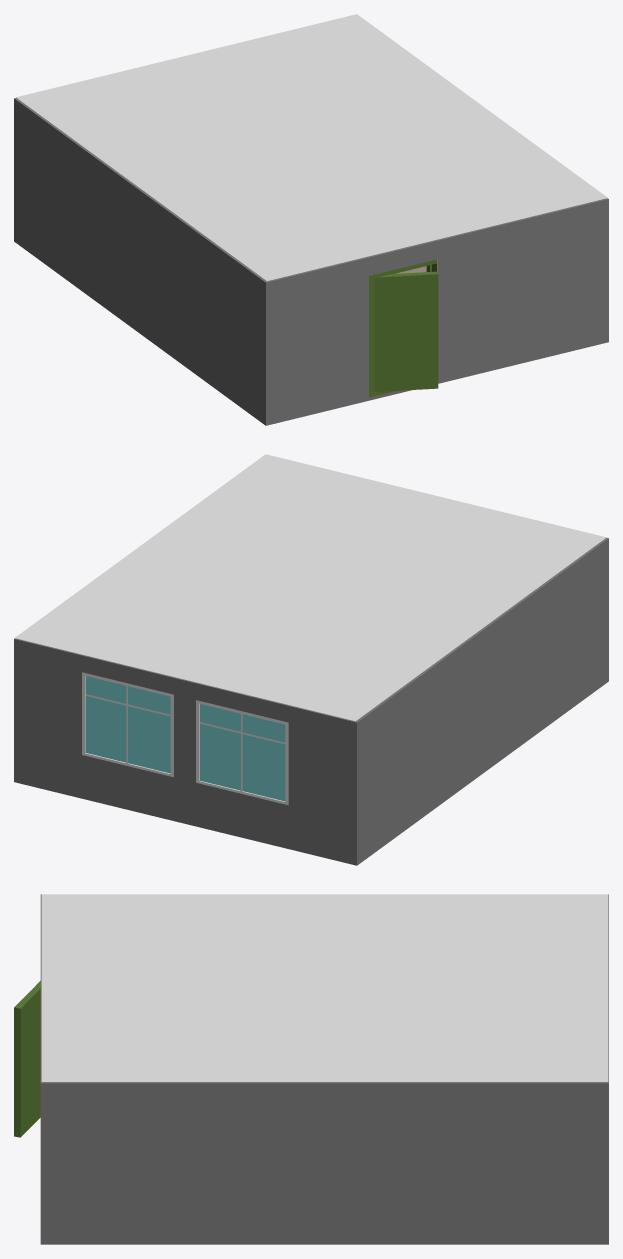
The picture shows the model from 3 angles, top to bottom: view 1: azimuth 30°, elevation 25°; view 2: azimuth 150°, elevation 25°; view 3: azimuth 270°, elevation 25°; orthographic projection. The views are drawn at different scales.
Visible parts, largest first — view 1: room pPlane2, pPlane1 room, room pCube233, room pCube230; view 2: room pPlane2, pPlane1 room, room pCube228, room pCube229; view 3: room pPlane2, pPlane1 room, room pCube233.
Boxes of the visible parts, x1=… form: room pPlane2: x1=16, y1=14, x2=607, y2=280; pPlane1 room: x1=14, y1=97, x2=608, y2=425; room pCube233: x1=374, y1=271, x2=438, y2=391; room pCube230: x1=369, y1=259, x2=436, y2=397; room pPlane2: x1=15, y1=454, x2=606, y2=721; pPlane1 room: x1=14, y1=537, x2=608, y2=865; room pCube228: x1=196, y1=700, x2=288, y2=805; room pCube229: x1=82, y1=672, x2=173, y2=777; room pPlane2: x1=41, y1=894, x2=608, y2=1081; pPlane1 room: x1=40, y1=894, x2=608, y2=1244; room pCube233: x1=14, y1=981, x2=40, y2=1137.
Size of the model in its own units: 7.8 by 3.13 by 10.39.
